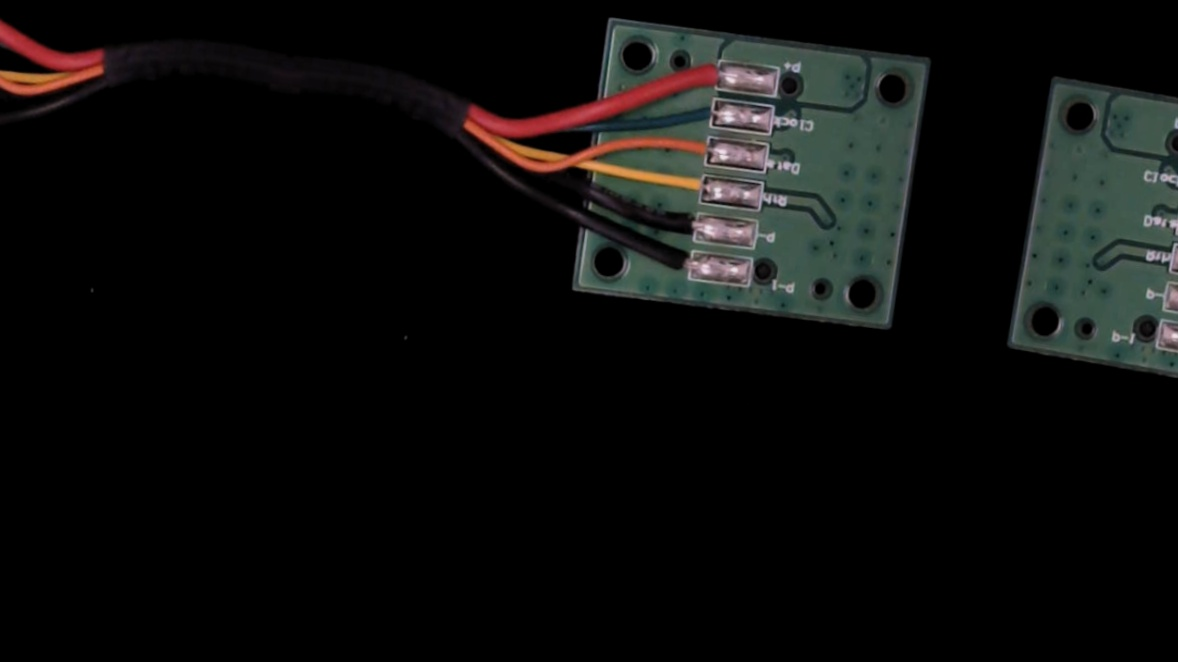Black: (638, 200, 713, 245)
Black1: (638, 242, 708, 284)
Green: (669, 92, 733, 132)
Orange: (653, 127, 727, 168)
Red: (671, 53, 740, 95)
Yellow: (643, 164, 720, 208)
